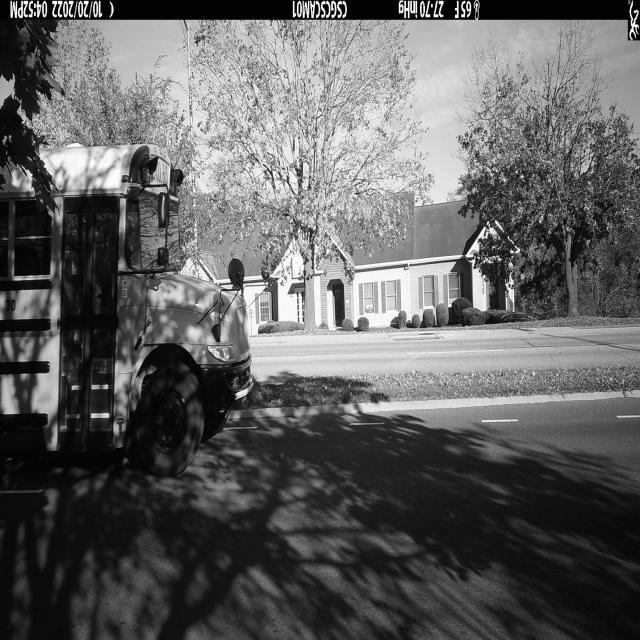Bus: (0, 144, 254, 479)
